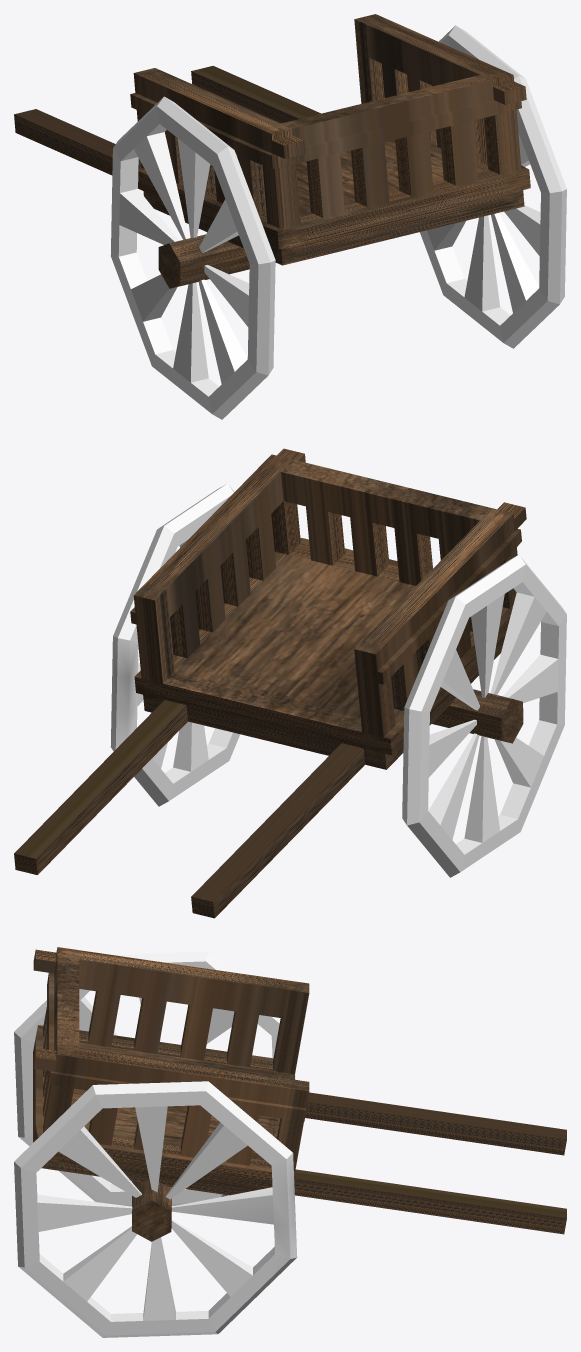
Rendered from WoodenCartWMovingAnimationAnimation.fbx.
The picture shows the model from 3 angles, top to bottom: view 1: azimuth 30°, elevation 25°; view 2: azimuth 150°, elevation 25°; view 3: azimuth 270°, elevation 25°; orthographic projection. The views are drawn at different scales.
Parts seen in each view (by area): view 1: Cube, Circle, Cylinder; view 2: Cube, Circle, Cylinder; view 3: Cube, Circle, Cylinder.
Part boxes in pixels (x1=…): Cube: x1=14, y1=14, x2=530, y2=265; Circle: x1=110, y1=25, x2=566, y2=419; Cylinder: x1=158, y1=234, x2=249, y2=288; Cube: x1=14, y1=448, x2=526, y2=918; Circle: x1=110, y1=483, x2=566, y2=877; Cylinder: x1=432, y1=689, x2=523, y2=743; Cube: x1=33, y1=947, x2=566, y2=1234; Circle: x1=14, y1=951, x2=297, y2=1337; Cylinder: x1=132, y1=1179, x2=171, y2=1241.
Size of the model in its own units: 283 by 235 by 433.
Materials: 2 (1 with a texture image).
